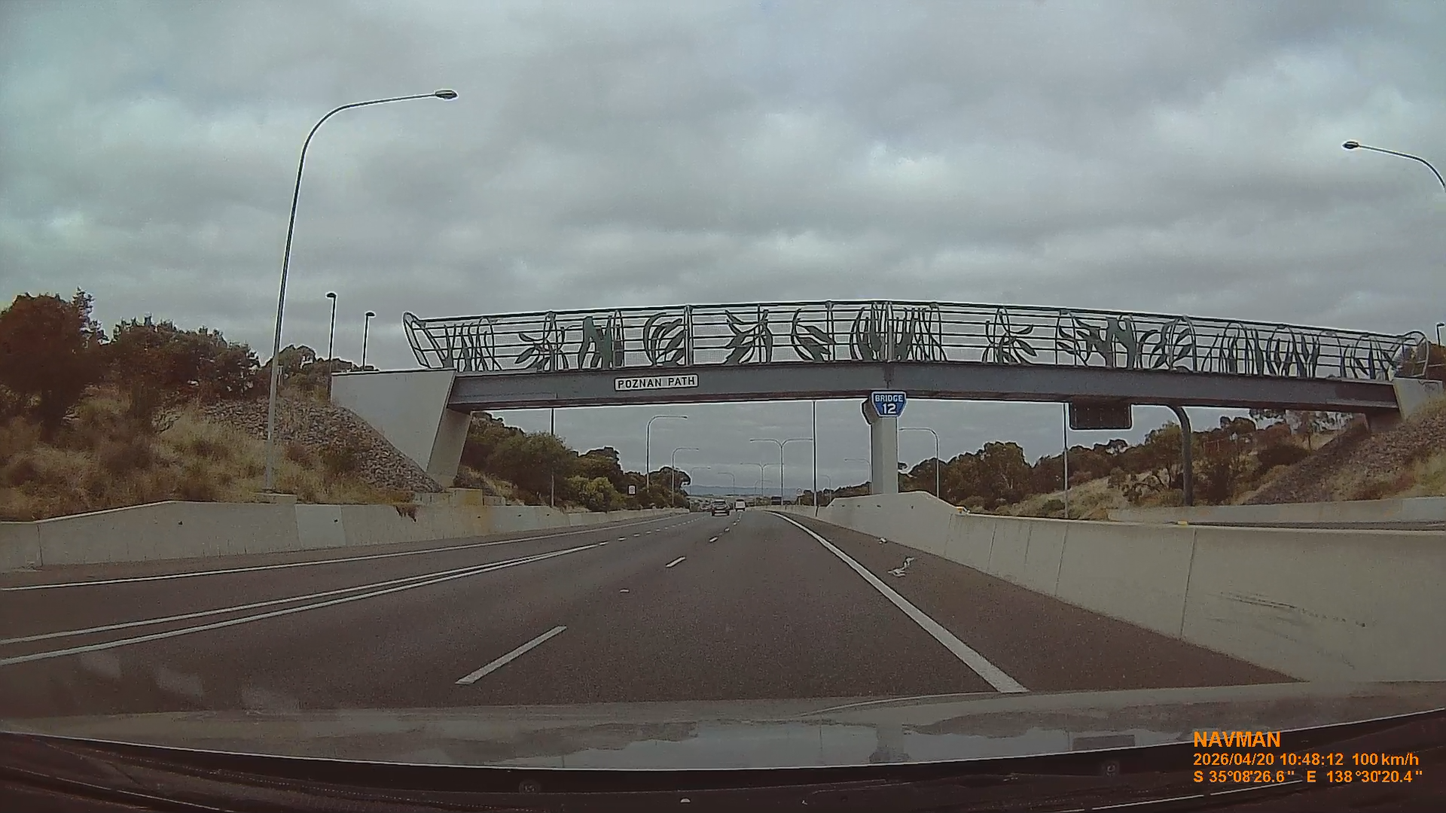road barriers: (818, 492, 1445, 681), (0, 502, 671, 574)
